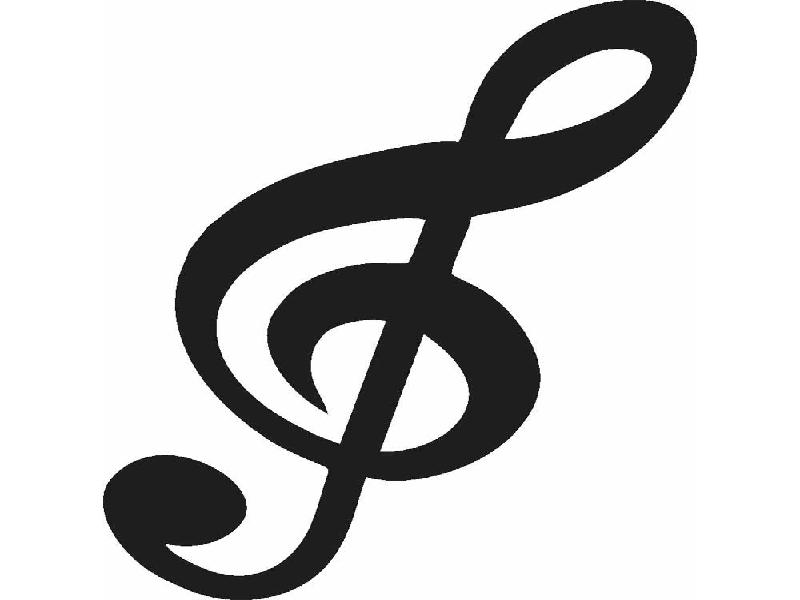CS: (99, 1, 753, 600)
